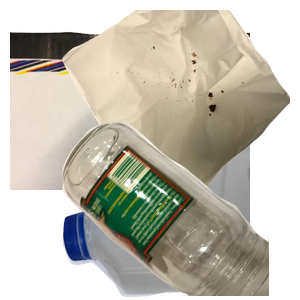cardboard: (10, 29, 250, 209)
glass: (60, 120, 300, 300)
plastic: (60, 135, 300, 300)
trash: (60, 10, 300, 190)
